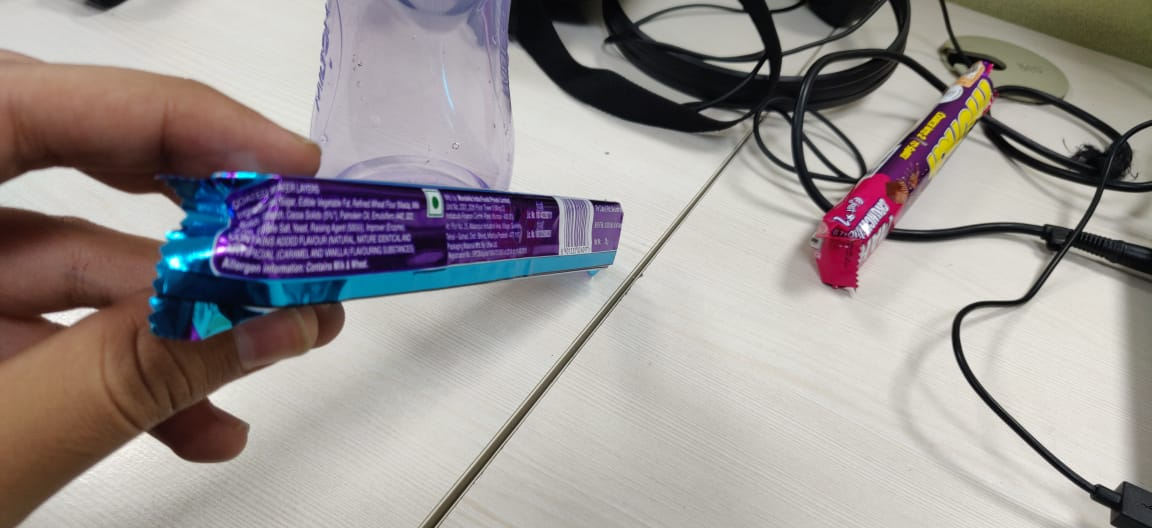perk: (145, 155, 643, 349)
